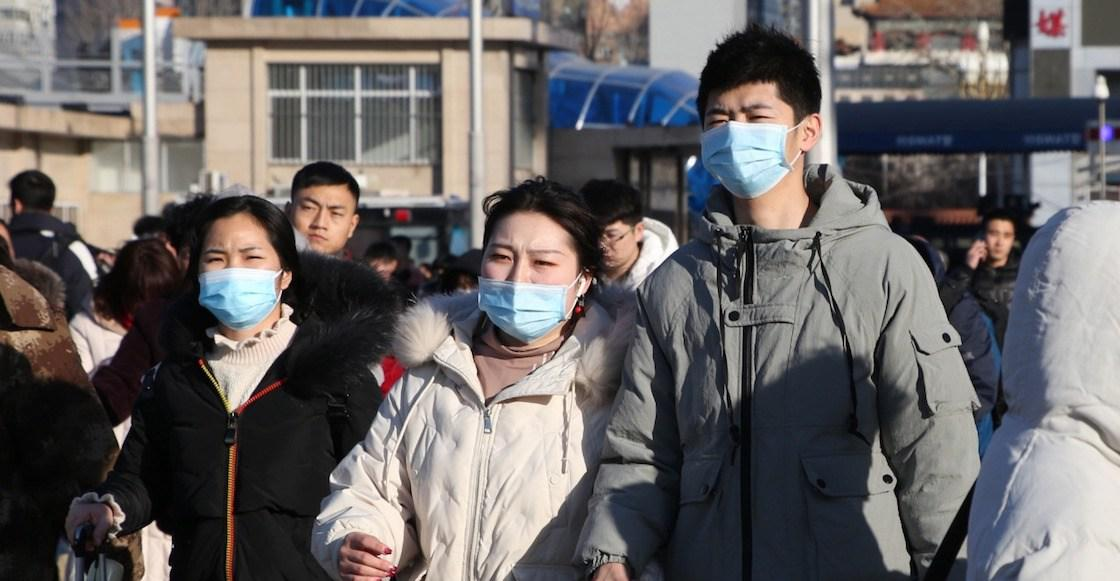mask: (476, 237, 579, 341), (697, 92, 801, 194), (191, 239, 285, 331)
none: (293, 191, 351, 254), (595, 219, 635, 269), (987, 219, 1014, 262)
